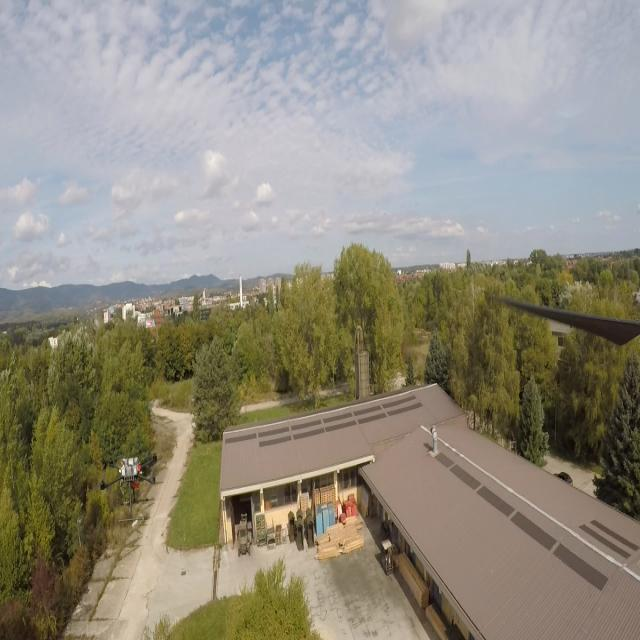UAV: (97, 446, 161, 527)
